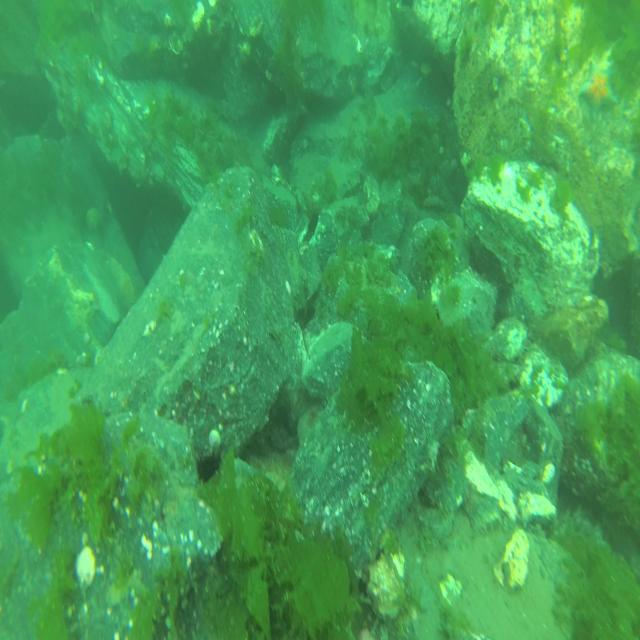echinus: (193, 446, 224, 487)
holothurian: (422, 190, 447, 213)
starfish: (579, 58, 619, 119)
